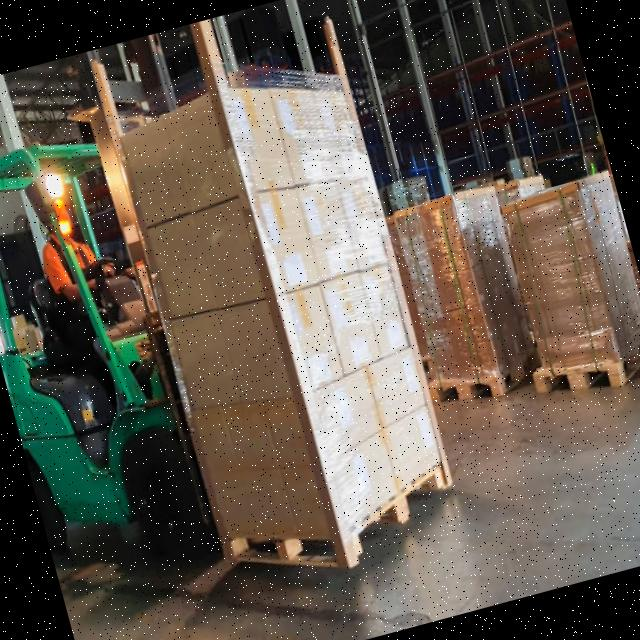Wooden-Pallets: (218, 455, 456, 573), (427, 366, 508, 412), (530, 361, 627, 396)
